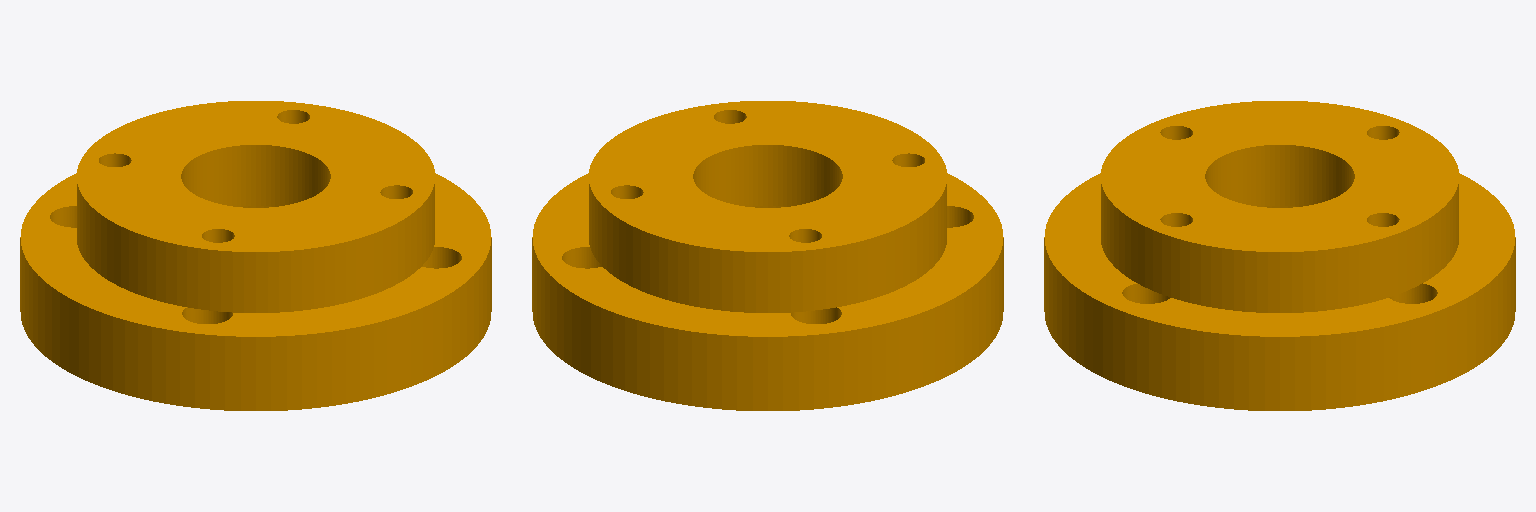
URDF robot description (kosmek_swrz0070_mf4):
<?xml version="1.0"?>
<robot name="kosmek_swrz0070_mf4">
<link name="mount"><visual ><geometry ><mesh filename="../meshes/mf4/mount.obj"/></geometry></visual><collision ><origin xyz="0 0 0.0055" rpy="0 0 0"/><geometry ><cylinder radius="0.0315" length="0.011"/></geometry></collision><collision ><origin xyz="0 0 0.0155" rpy="0 0 0"/><geometry ><cylinder radius="0.024" length="0.009"/></geometry></collision></link>
<link name="flange"></link>
<joint name="flange_joint" type="fixed"><parent link="mount"/><child link="flange"/><origin xyz="0 0 0.02" rpy="0 0 0"/></joint>
</robot>

--- What the picture shows (computed from the rendered views, not written in the file) ---
3 views of the same robot in one strip: view 1: azimuth 30°, elevation 25°; view 2: azimuth 150°, elevation 25°; view 3: azimuth 270°, elevation 25° (orthographic).
Robot: kosmek_swrz0070_mf4 — 2 links, 1 joints (1 fixed); root link mount; default pose: all joints at 0.
Links seen in each view (by area): view 1: mount; view 2: mount; view 3: mount.
Link boxes in pixels (<box>): mount: <box>20,101,491,410</box>; mount: <box>532,101,1003,410</box>; mount: <box>1044,101,1515,410</box>.
Bounding box of the posed robot: 0.063 × 0.063 × 0.0245 m (x, y, z).
Meshes: 1 distinct files referenced, 1 mesh visuals loaded (1 OBJ).
